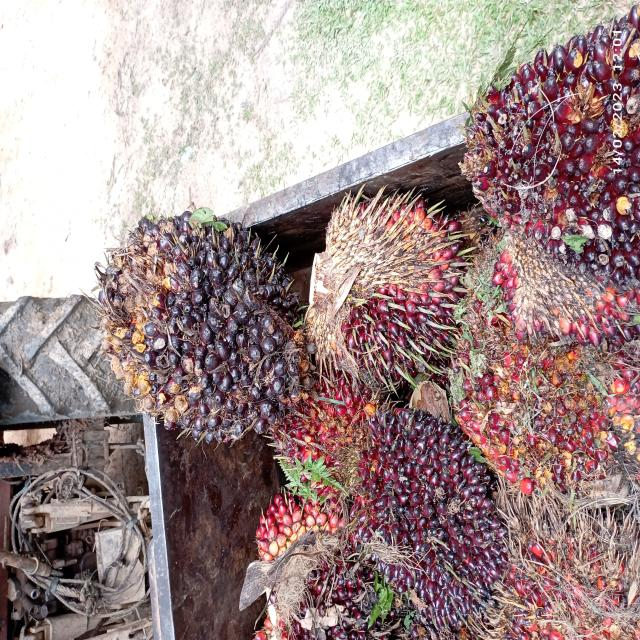fraksi 00: (85, 175, 299, 469), (345, 409, 514, 612)
fraksi 1: (439, 21, 640, 277), (296, 191, 476, 381)
fraksi 3: (422, 245, 640, 532), (265, 362, 383, 510)
